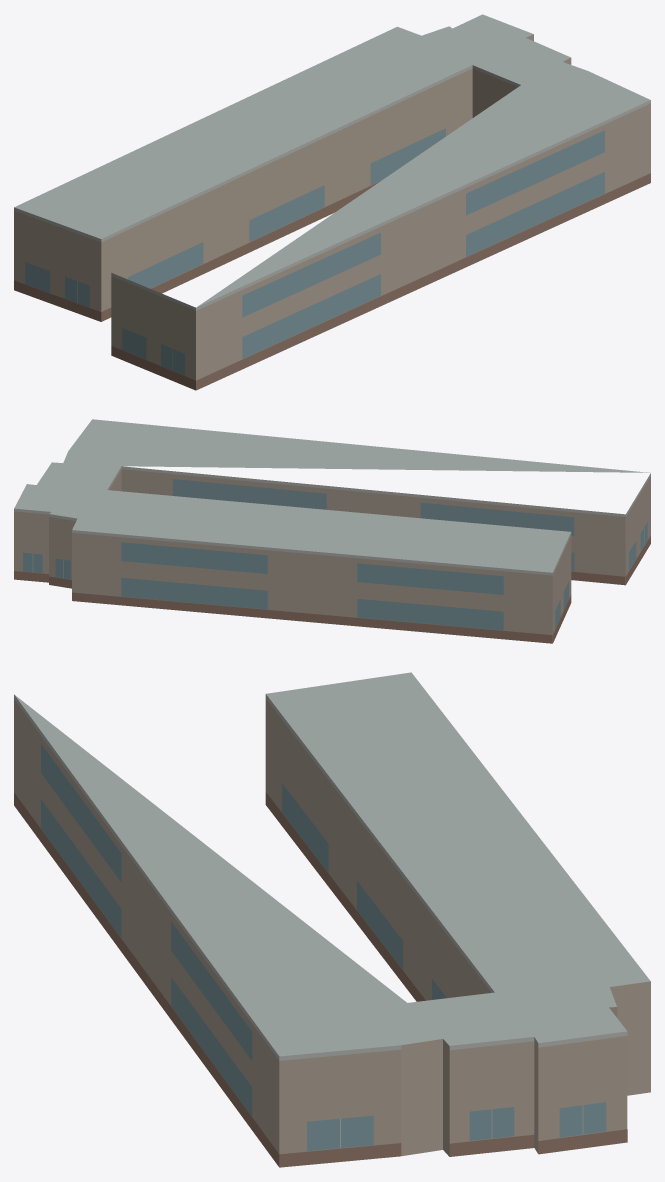
File: survey-upis-32613999.glb
The picture shows the model from 3 angles, top to bottom: view 1: azimuth 30°, elevation 25°; view 2: azimuth 150°, elevation 25°; view 3: azimuth 270°, elevation 25°; orthographic projection. The views are drawn at different scales.
Parts seen in each view (by area): view 1: survey-upis-32613999.tmp; view 2: survey-upis-32613999.tmp; view 3: survey-upis-32613999.tmp.
Part boxes in pixels (x1=…): survey-upis-32613999.tmp: x1=14, y1=14, x2=650, y2=390; survey-upis-32613999.tmp: x1=14, y1=419, x2=650, y2=643; survey-upis-32613999.tmp: x1=14, y1=672, x2=650, y2=1167.
Size of the model in its own units: 45.25 by 6.1 by 31.71.
